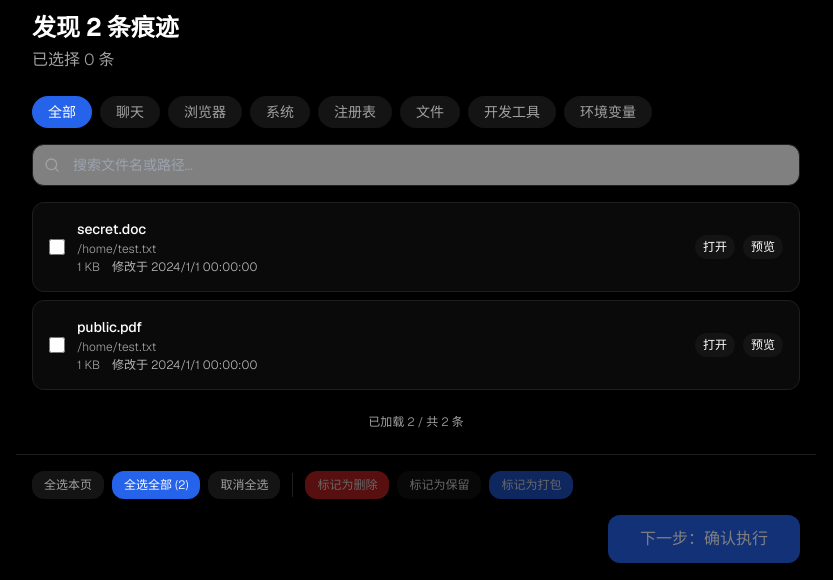
it: ResultsPage › filters by search query
Expected: the text "secret.doc" is shown, [77,219,146,239]
Type "secret" into the field with placeholder "搜索文件名或路径..." at (416, 165), box [32,144,800,186]
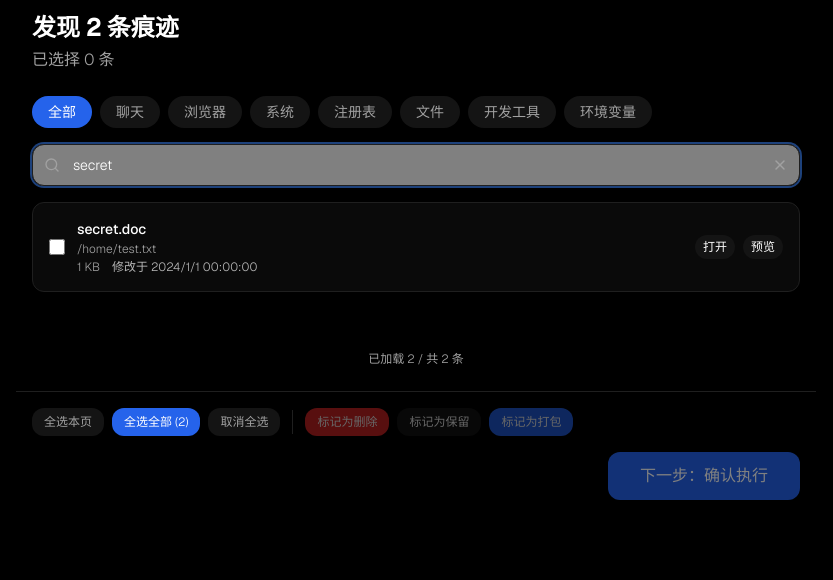
Expected: the text "secret.doc" is shown, [77,219,146,239]
Result: the text "public.pdf" is gone
